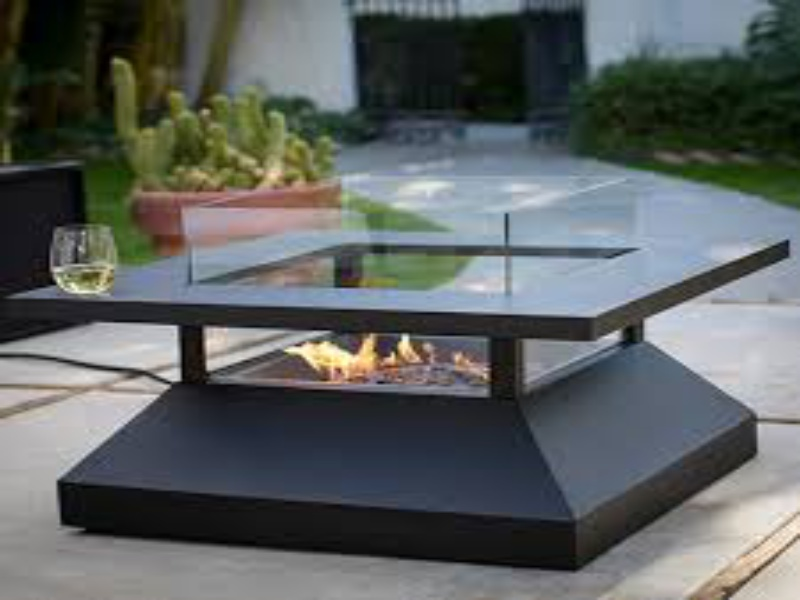fire: (281, 335, 355, 380), (356, 335, 378, 373), (398, 335, 416, 363), (383, 352, 397, 369)
